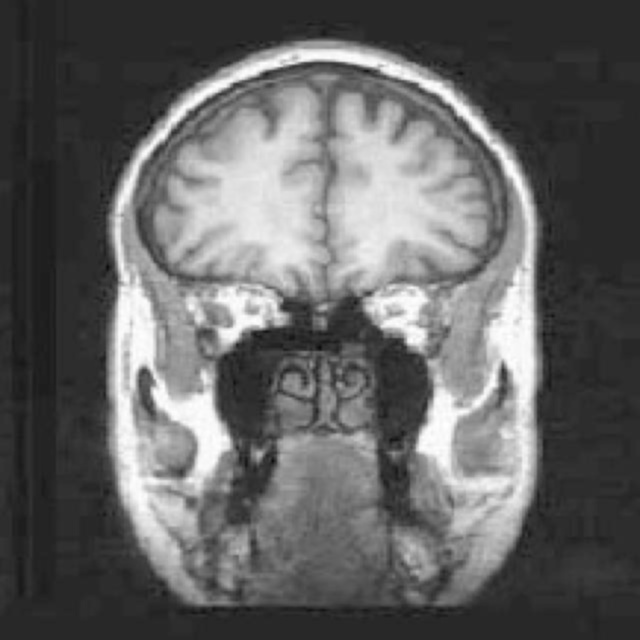glioma tumor: (153, 98, 487, 310)
